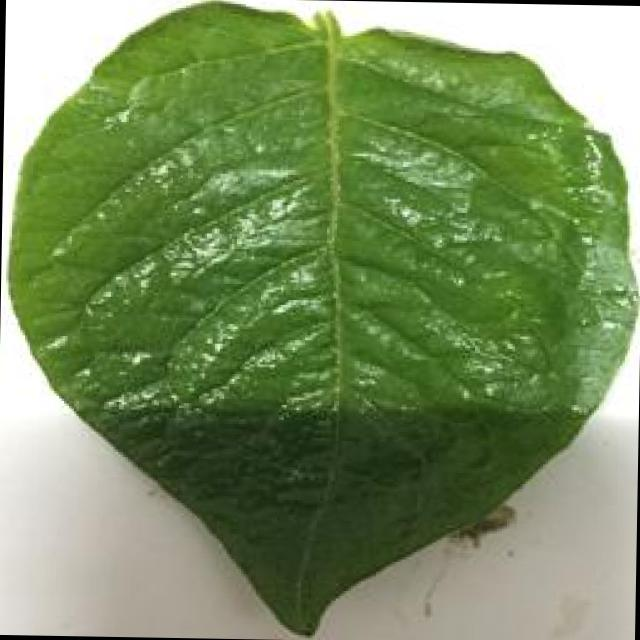Potato_Healthy: (0, 4, 627, 640)
